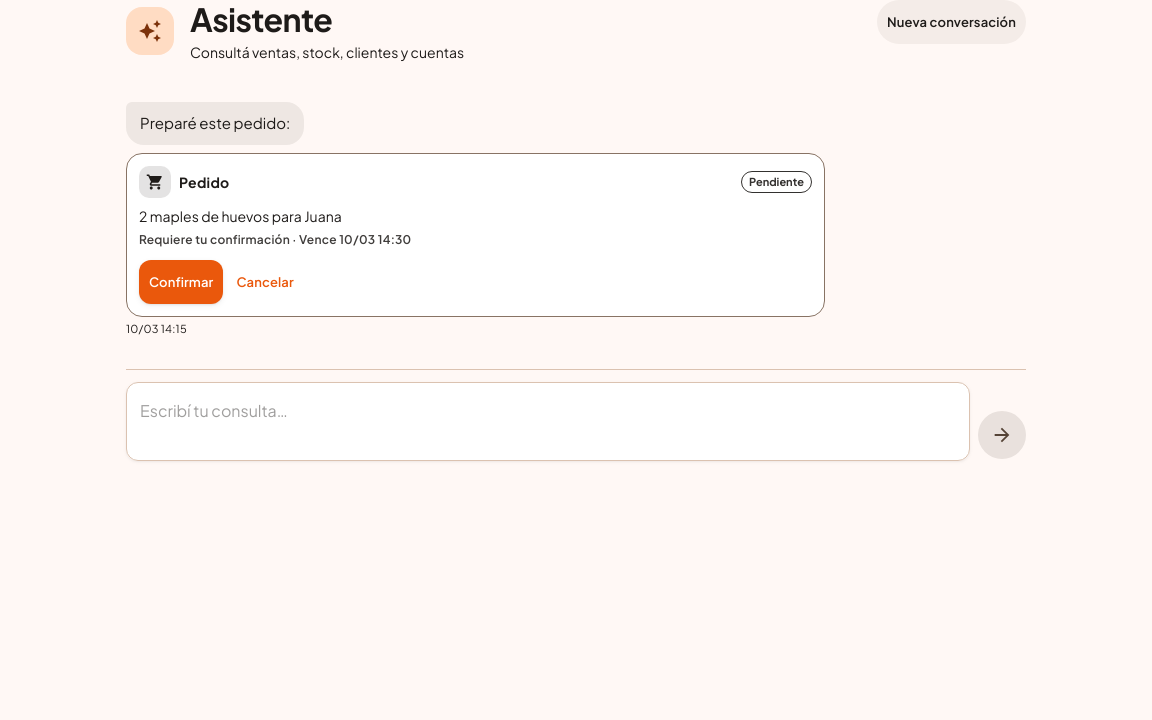
Test: AssistantPage — read-only AI chat › confirms a pending action through the dialog and shows the result summary
Click the button "Confirmar": (181, 282) [139, 260, 223, 304]
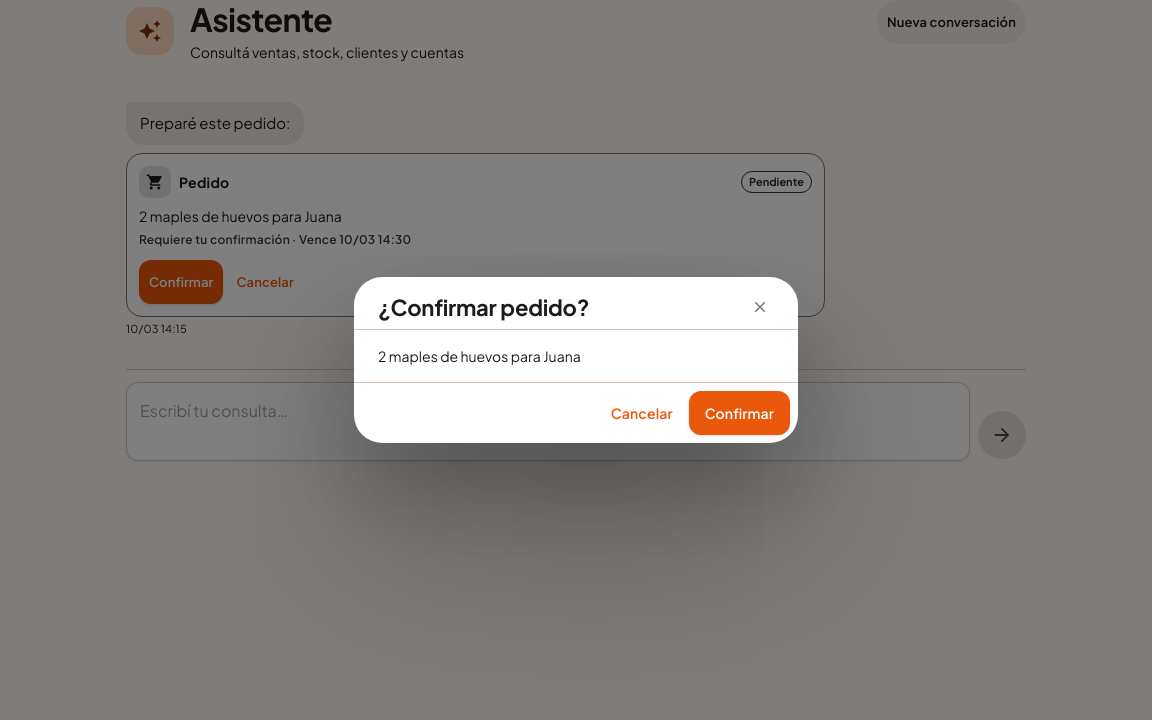
Check: the heading "¿Confirmar pedido?" is shown, box [378, 293, 774, 321]
Click the button "Confirmar": (739, 413) [689, 391, 790, 435]
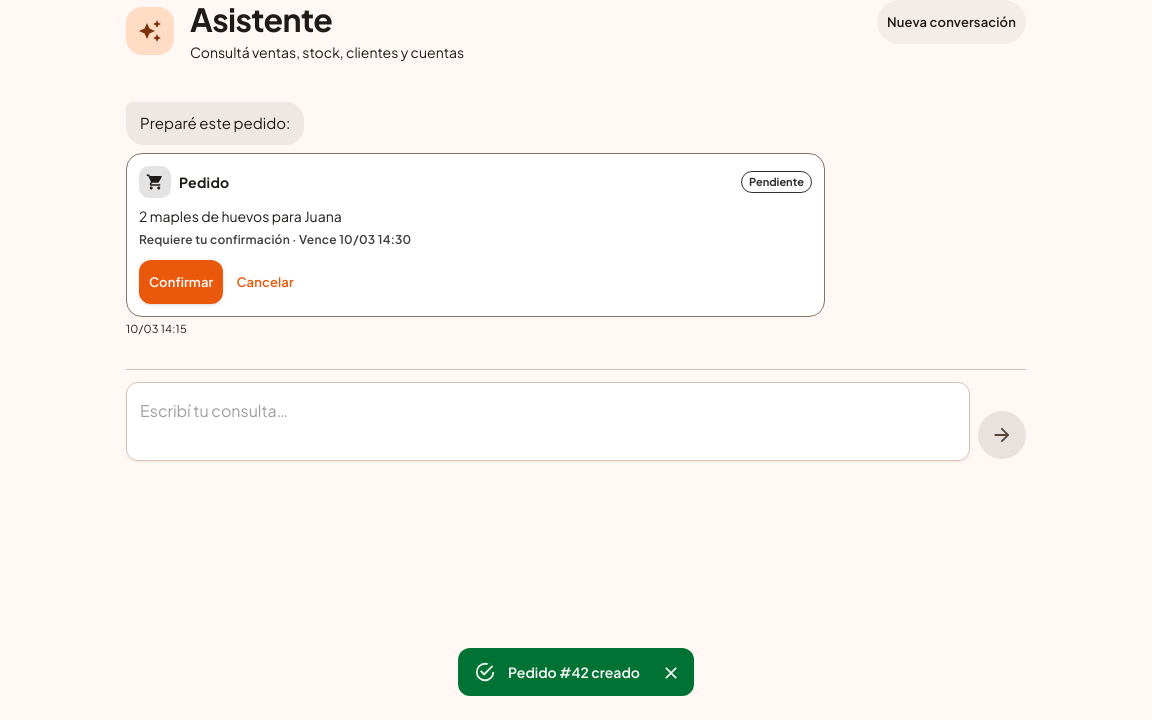
Check: the text "Pedido #42 creado" is shown, box [508, 663, 640, 681]
